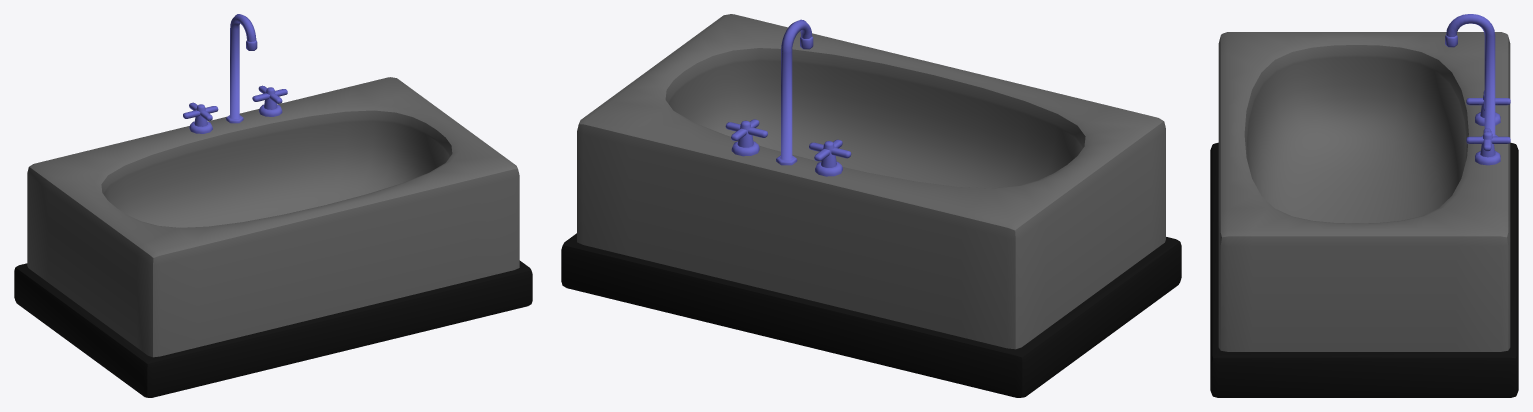
File: SM_bathtub.fbx
3 renders of one model, left to right at view 1: azimuth 30°, elevation 25°; view 2: azimuth 150°, elevation 25°; view 3: azimuth 270°, elevation 25°, orthographic. The views are drawn at different scales.
Parts seen in each view (by area): view 1: Box392; view 2: Box392; view 3: Box392.
Boxes of the visible parts, x1,y1,x2,y2 form: Box392: [14, 14, 532, 397]; Box392: [561, 14, 1181, 397]; Box392: [1210, 14, 1518, 397].
Bounding box in the file's own units: 96.37 × 59.55 × 57.96.
